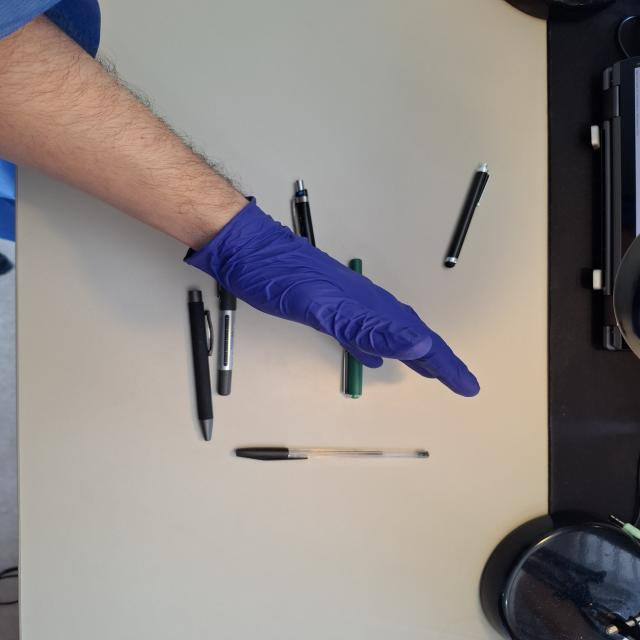glove_on: (179, 193, 483, 399)
